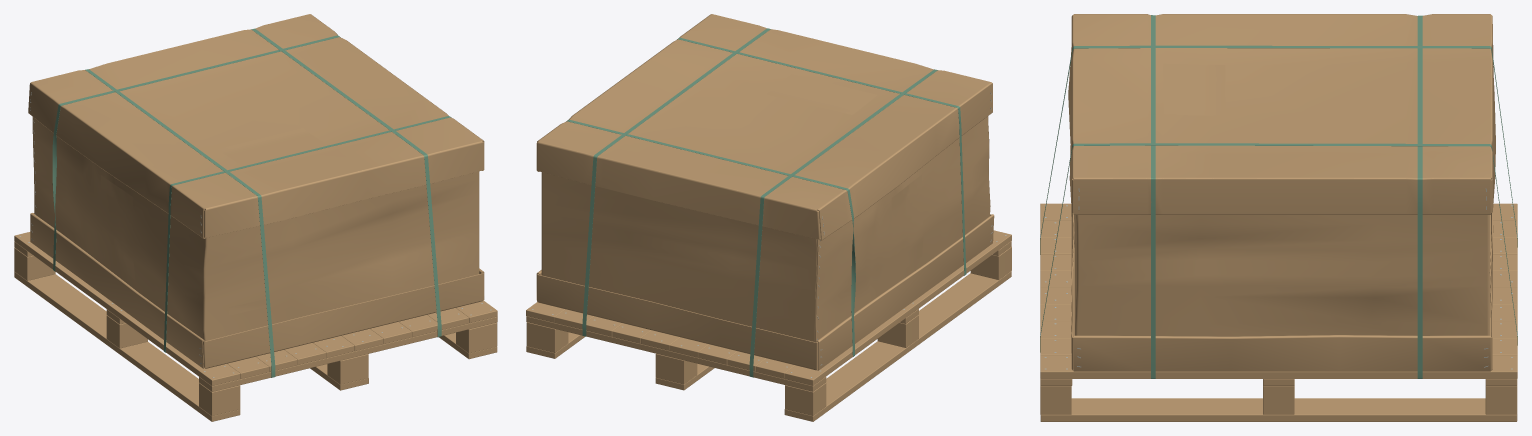
Rendered from box_cardboard_large_a03.glb.
The picture shows the model from 3 angles, left to right: view 1: azimuth 30°, elevation 25°; view 2: azimuth 150°, elevation 25°; view 3: azimuth 270°, elevation 25°; orthographic projection. The views are drawn at different scales.
Bounding box in the file's own units: 1.01 × 0.676 × 1.2.
